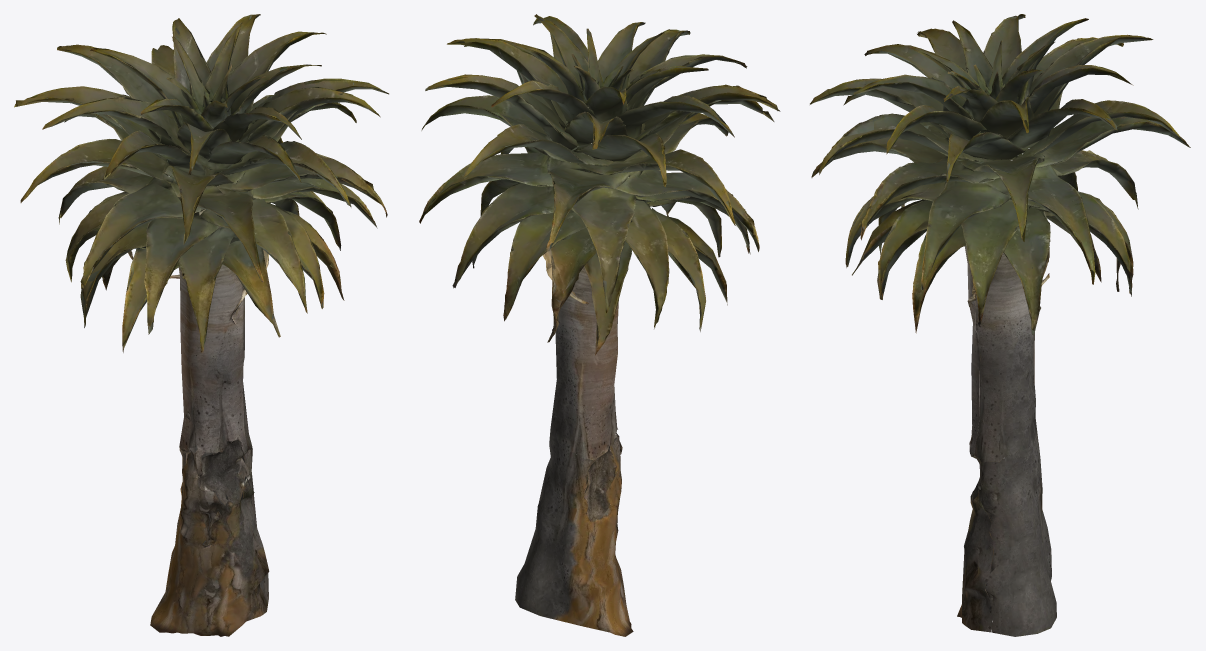
Rendered from desert-aloe.glb.
3 renders of one model, left to right at view 1: azimuth 30°, elevation 25°; view 2: azimuth 150°, elevation 25°; view 3: azimuth 270°, elevation 25°, orthographic.
Visible parts, largest first — view 1: desert-aloe specimen A; view 2: desert-aloe specimen A; view 3: desert-aloe specimen A.
Boxes of the visible parts, x1=… form: desert-aloe specimen A: x1=14, y1=14, x2=388, y2=636; desert-aloe specimen A: x1=419, y1=14, x2=780, y2=636; desert-aloe specimen A: x1=810, y1=14, x2=1190, y2=636.
Size of the model in its own units: 0.9883 by 1.66 by 0.9972.
Materials: 1 (1 with a texture image).
